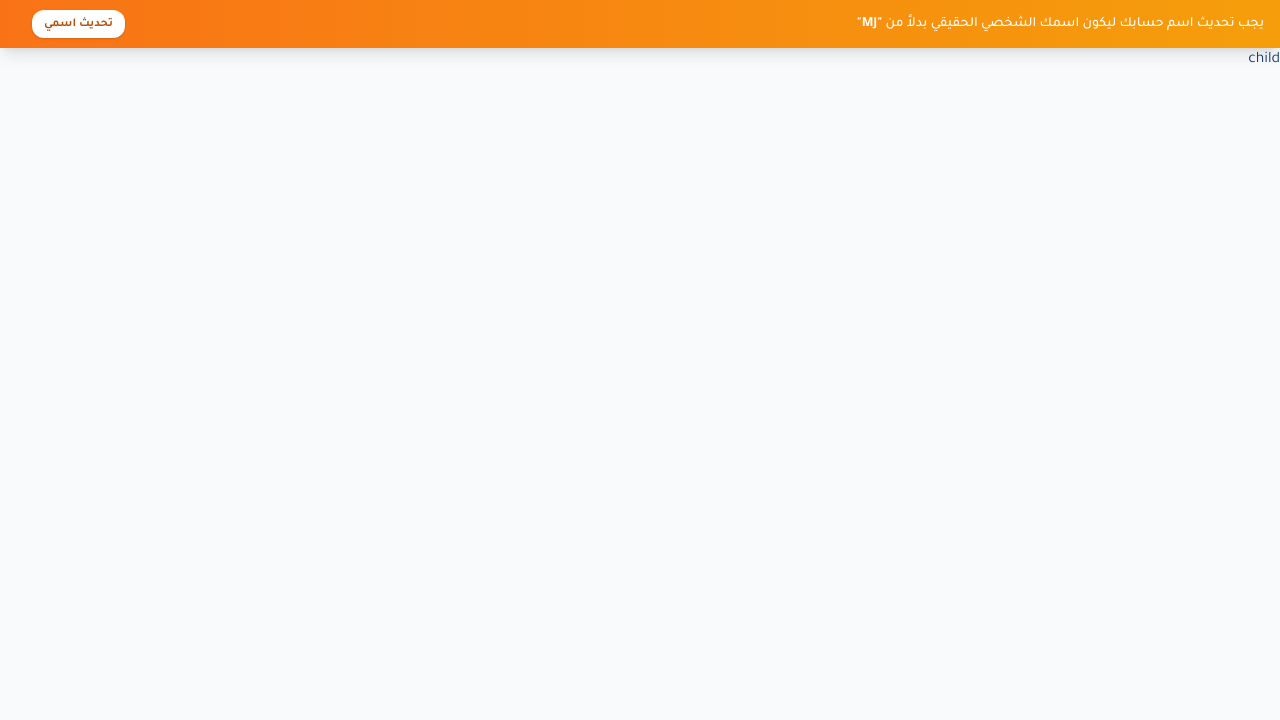
Test: GenericNameGuard — name update modal › backend error envelope is surfaced inline and the UI does not freeze
Click the button "تحديث اسمي" at {"x": 78, "y": 24}, box [32,10,125,38]
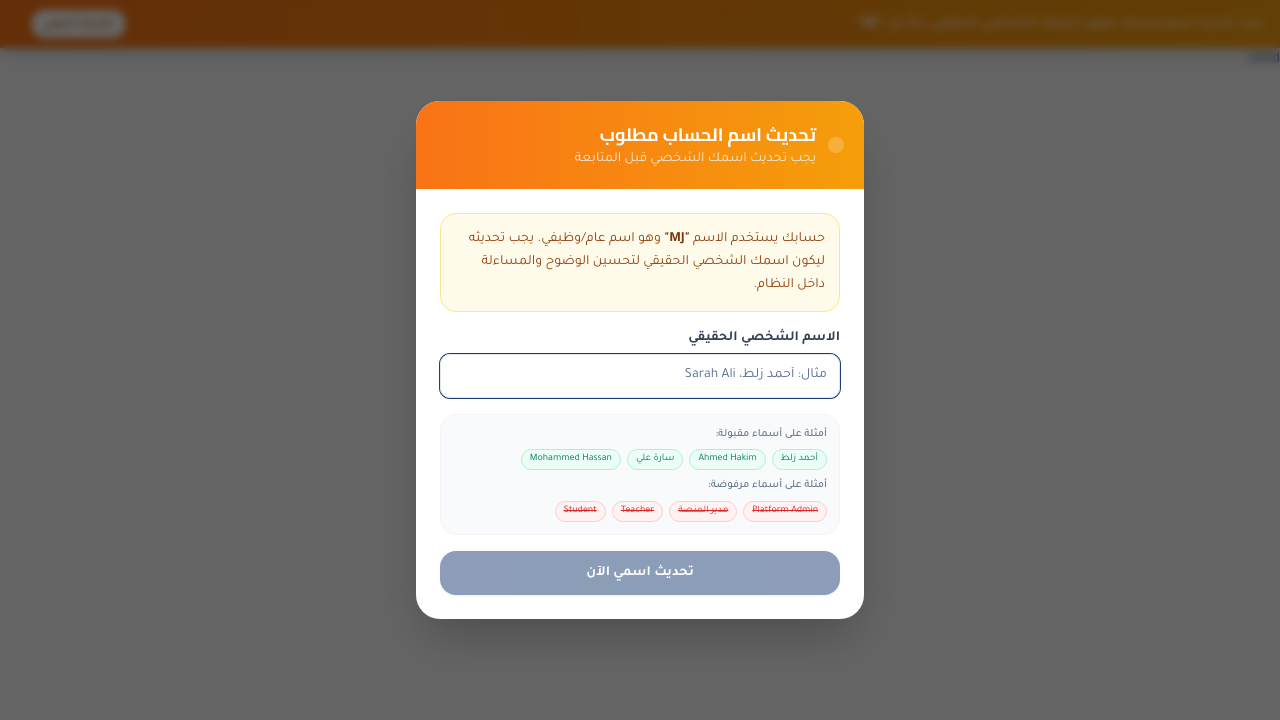
Type "احمد زلط" into the field with placeholder "مثال: أحمد زلط، Sarah Ali" at {"x": 640, "y": 376}, box [440,354,840,398]
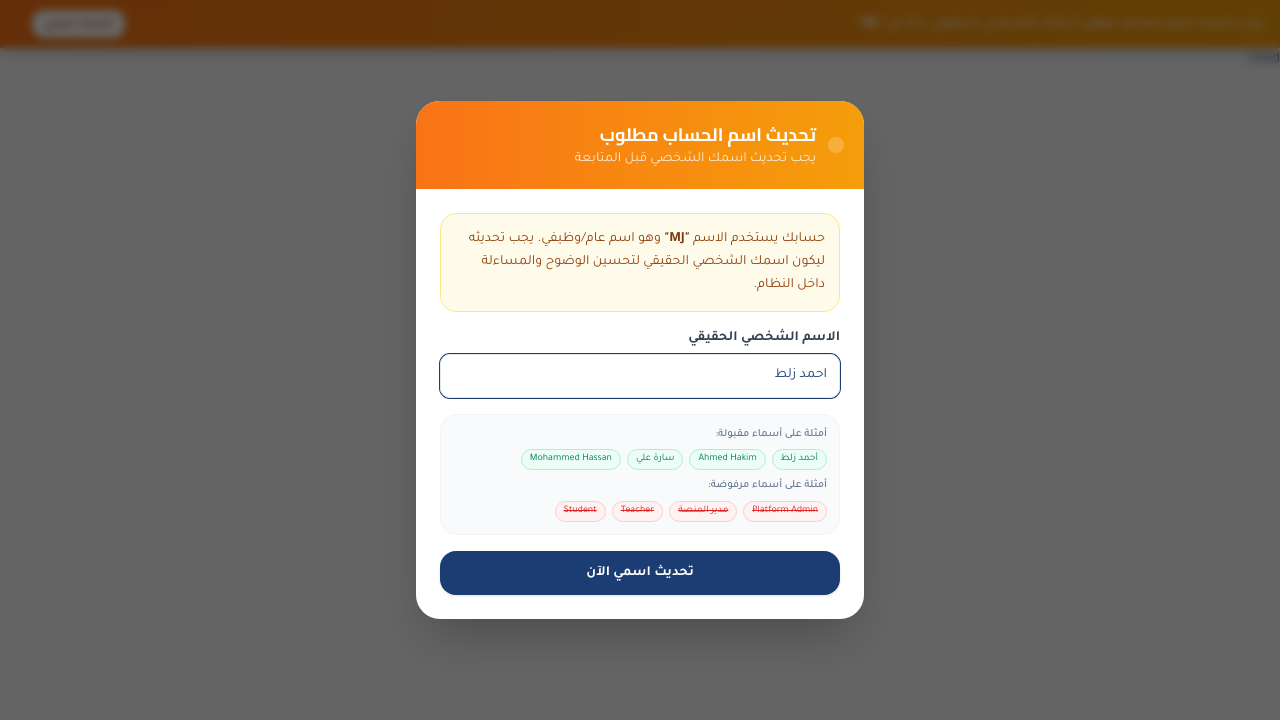
Click the button "تحديث اسمي الآن" at {"x": 640, "y": 573}, box [440,551,840,595]
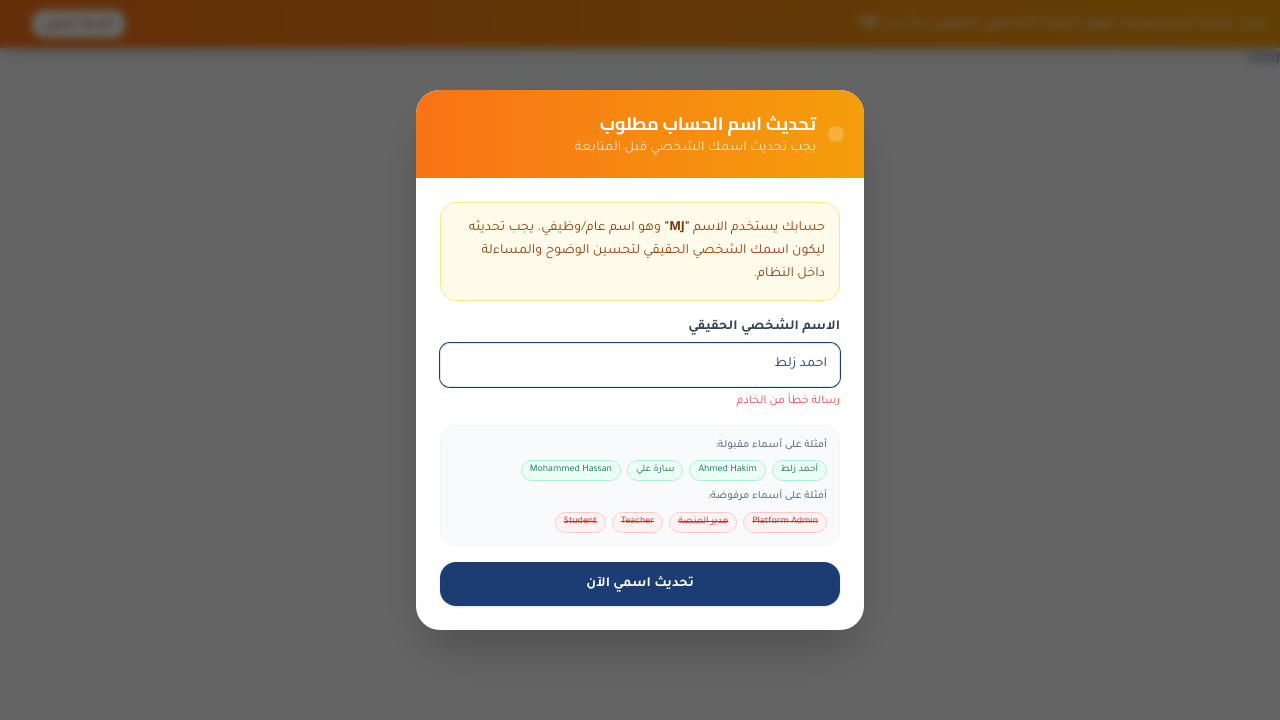
Check: the button "تحديث اسمي الآن" is enabled, box [440,562,840,606]
Check: the text "رسالة خطأ من الخادم" is shown, box [737,395,840,407]
